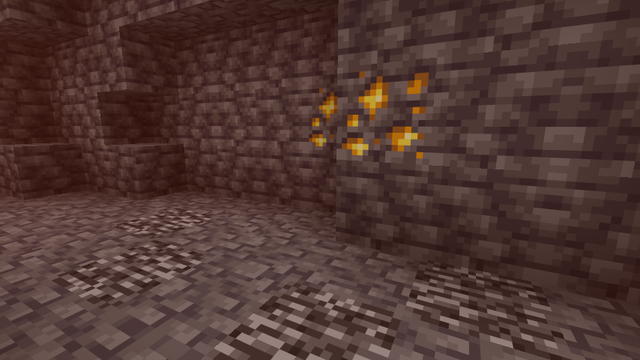gold: (306, 65, 432, 162)
